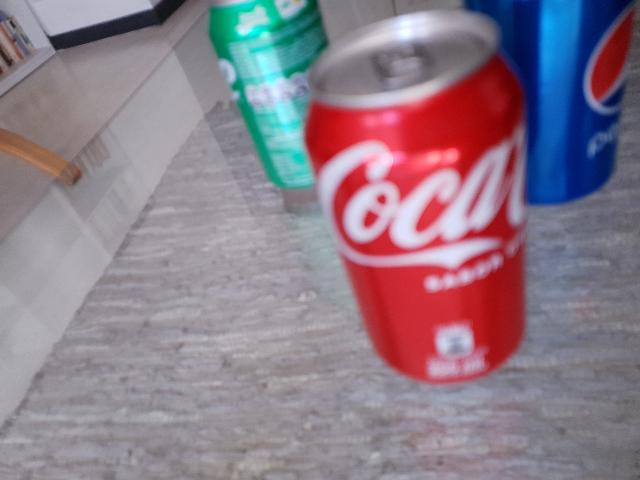coke: (306, 6, 530, 384)
pepsi: (464, 0, 632, 202)
sprite: (200, 0, 342, 190)
